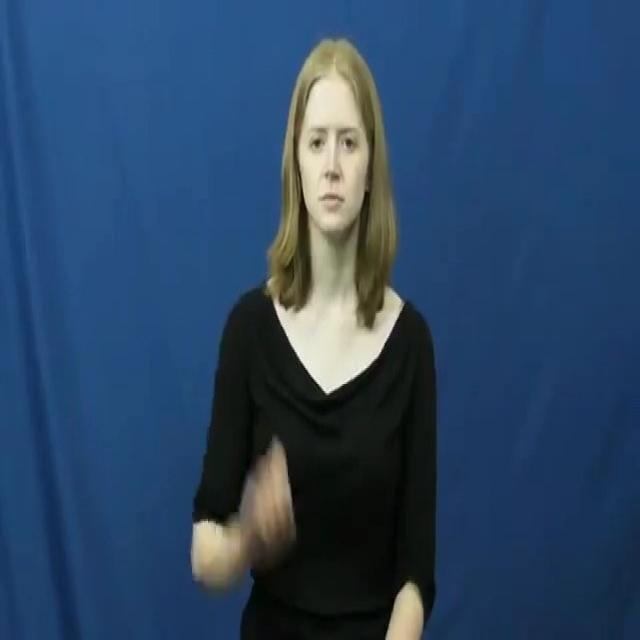additional: (222, 432, 301, 586)
